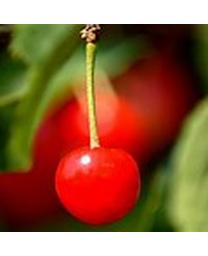cherry: (54, 145, 142, 226)
